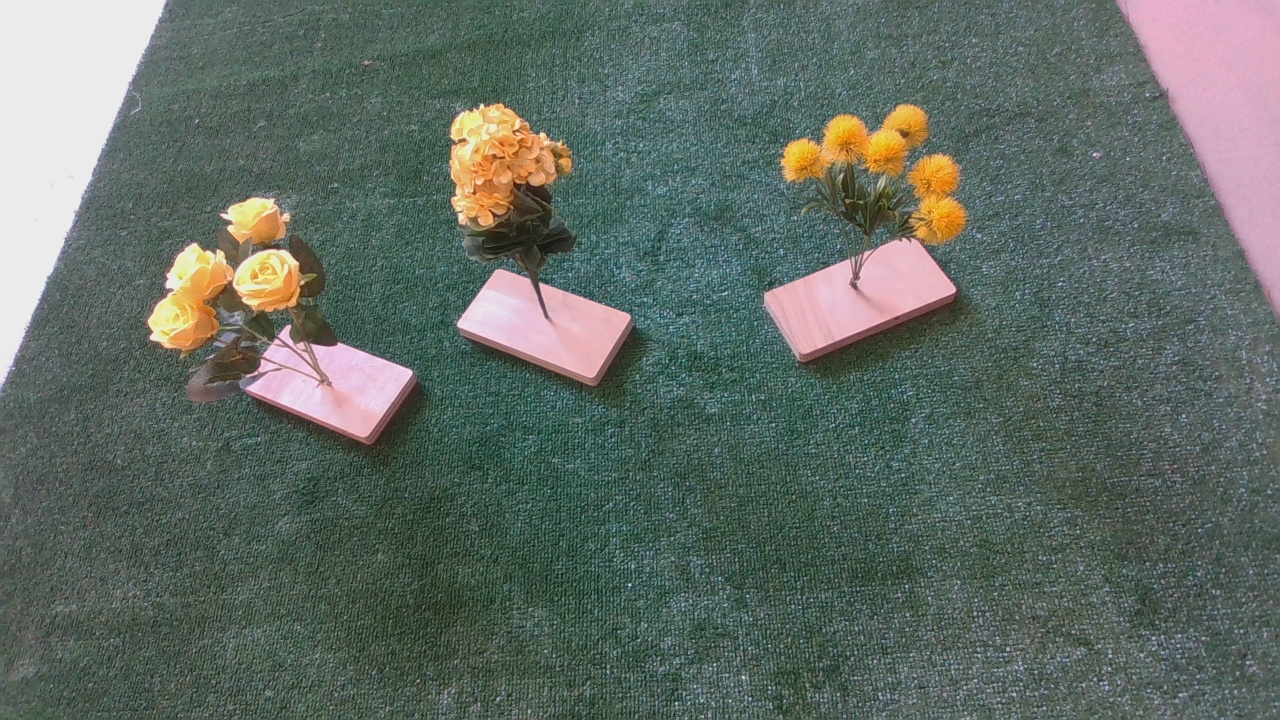dandelion: (776, 105, 985, 269)
geranium: (437, 102, 593, 274)
rose: (148, 194, 340, 414)
